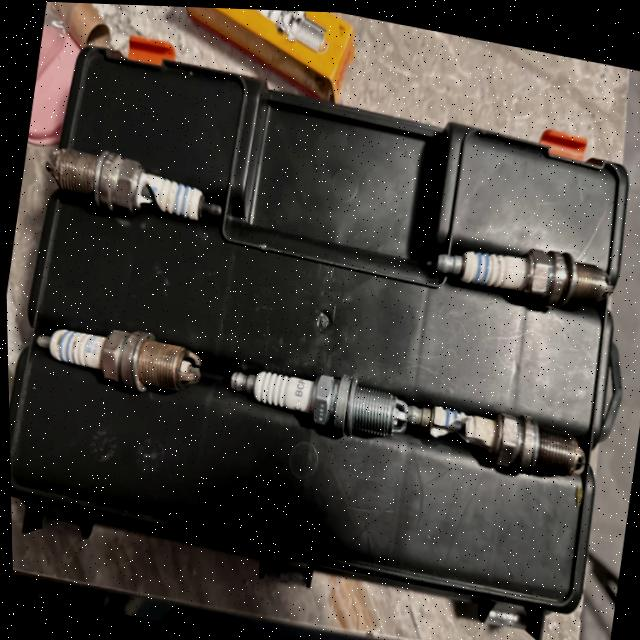damaged_spark-plug: (30, 130, 234, 234), (400, 381, 594, 481)
spark-plug: (19, 289, 212, 401), (424, 218, 621, 312), (214, 351, 404, 441)
